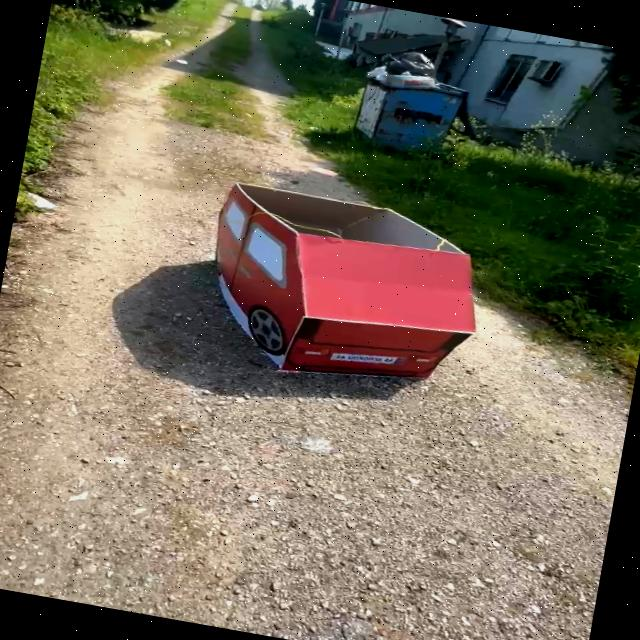red_car: (168, 148, 519, 420)
